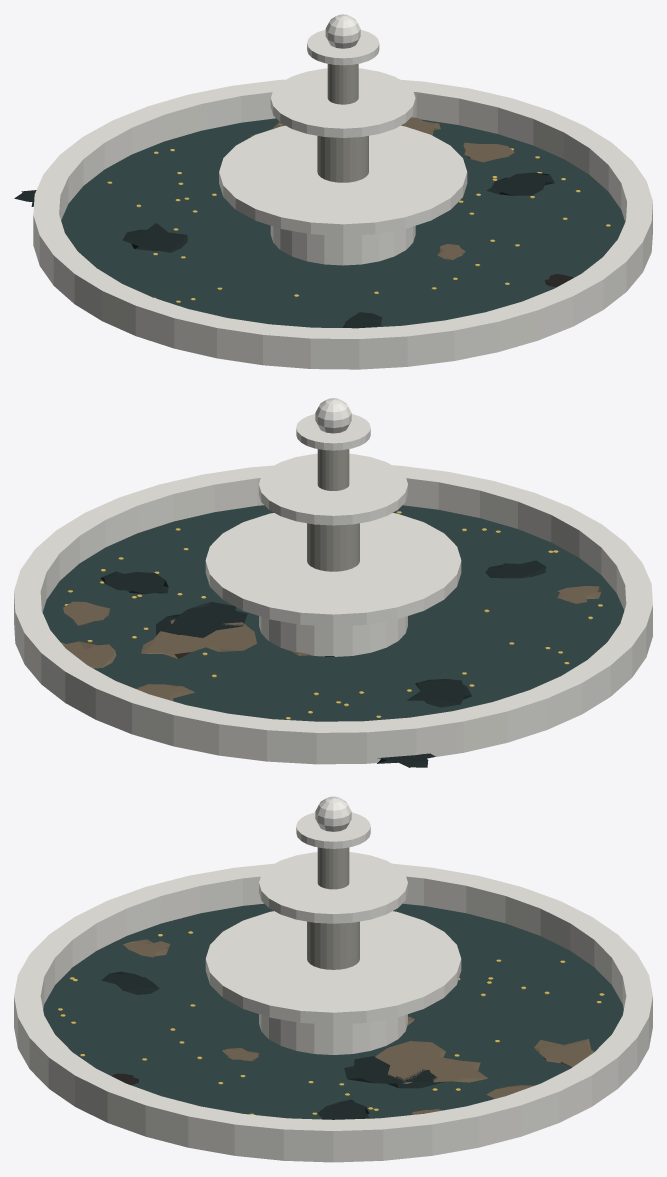
Rendered from strip_fountain.glb.
The picture shows the model from 3 angles, top to bottom: view 1: azimuth 30°, elevation 25°; view 2: azimuth 150°, elevation 25°; view 3: azimuth 270°, elevation 25°; orthographic projection. The views are drawn at different scales.
Parts seen in each view (by area): view 1: strip_fountain; view 2: strip_fountain; view 3: strip_fountain.
Boxes of the visible parts, x1,y1,x2,y2 form: strip_fountain: (14, 14, 652, 369); strip_fountain: (14, 398, 652, 767); strip_fountain: (14, 796, 652, 1162).
Bounding box in the file's own units: 12 × 4.75 × 12.
